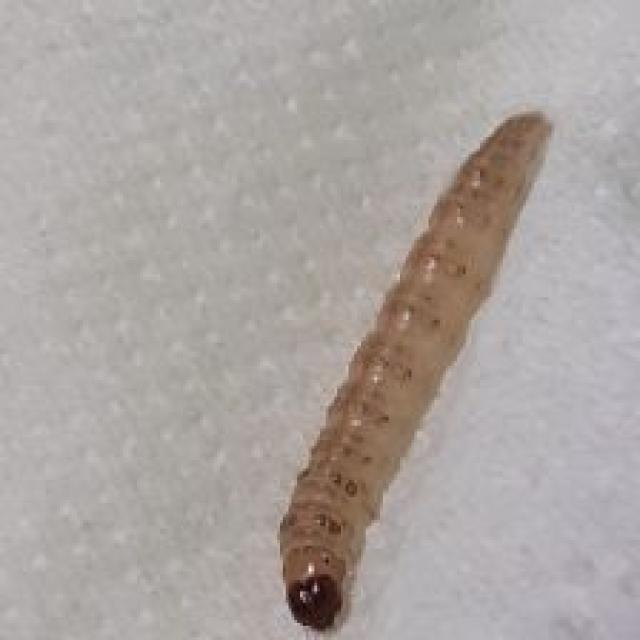white mucus: (251, 53, 580, 633)
